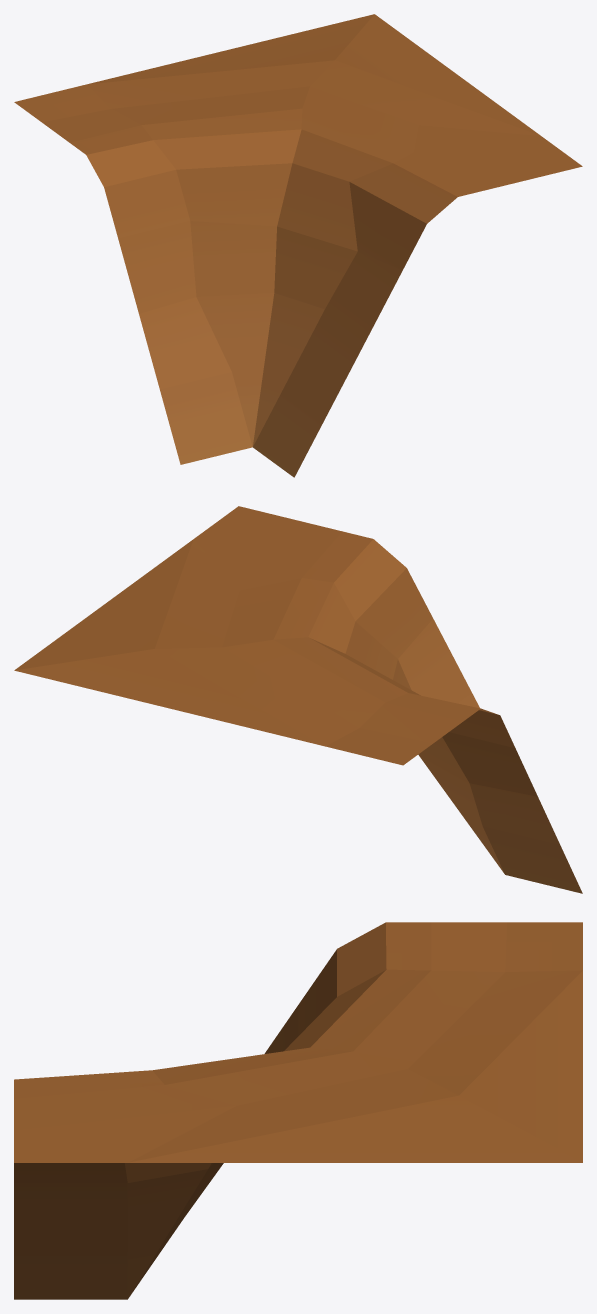
Rendered from cGround_C_Side_4__.fbx.
The picture shows the model from 3 angles, top to bottom: view 1: azimuth 30°, elevation 25°; view 2: azimuth 150°, elevation 25°; view 3: azimuth 270°, elevation 25°; orthographic projection. The views are drawn at different scales.
Visible parts, largest first — view 1: cGround_C_Side_4; view 2: cGround_C_Side_4; view 3: cGround_C_Side_4.
Boxes of the visible parts, x1,y1,x2,y2 form: cGround_C_Side_4: (14, 14, 582, 477); cGround_C_Side_4: (14, 506, 582, 893); cGround_C_Side_4: (14, 922, 582, 1299).
Size of the model in its own units: 500 by 329 by 500.
